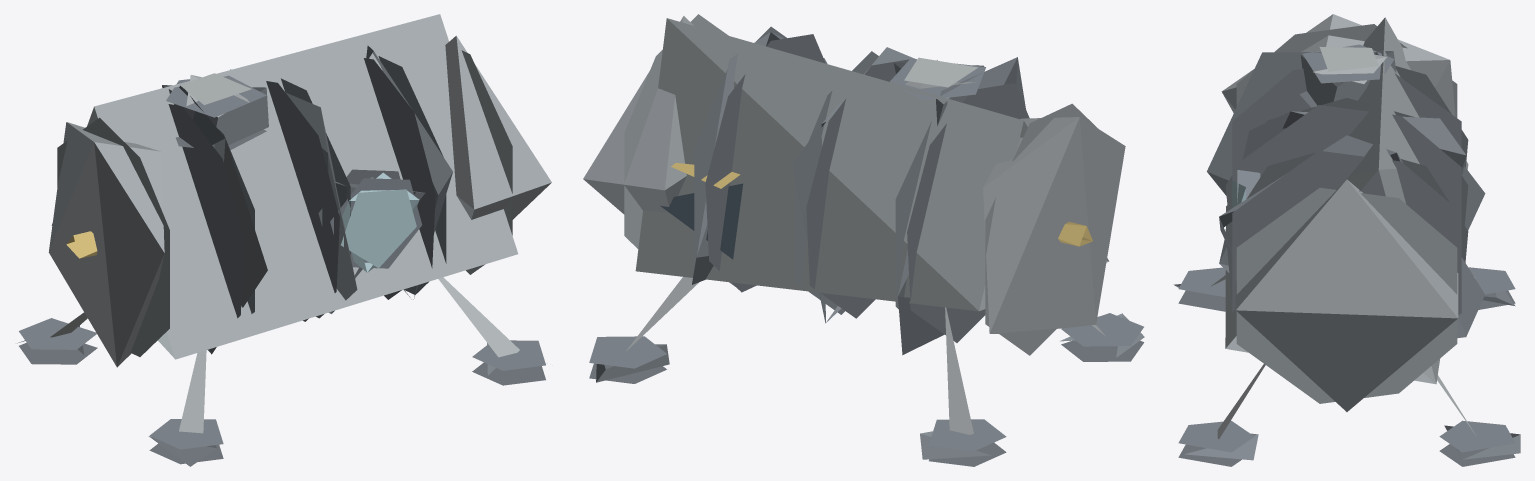
The picture shows the model from 3 angles, left to right: view 1: azimuth 30°, elevation 25°; view 2: azimuth 150°, elevation 25°; view 3: azimuth 270°, elevation 25°; orthographic projection. The views are drawn at different scales.
Visible parts, largest first — view 1: sea_research_pod.001; view 2: sea_research_pod.001; view 3: sea_research_pod.001.
Boxes of the visible parts, bbox=[...] form: sea_research_pod.001: bbox=[17, 14, 551, 466]; sea_research_pod.001: bbox=[583, 14, 1144, 466]; sea_research_pod.001: bbox=[1173, 14, 1520, 466].
Bounding box in the file's own units: 4.19 × 2.77 × 3.05.
